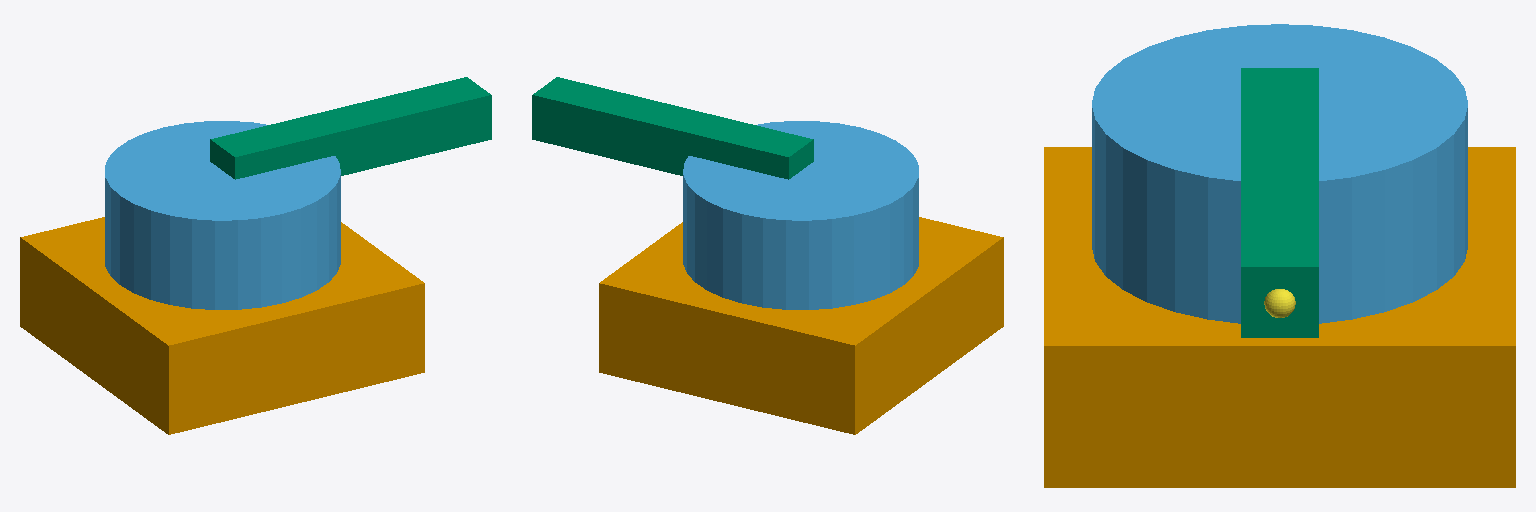
URDF robot description (turret):
<?xml version="1.0"?>
<robot name="turret">

  <!-- Base -->
  <link name="base_link">
    <inertial>
      <origin xyz="0 0 0" rpy="0 0 0"/>
      <mass value="5.0"/>
      <inertia ixx="0.05" ixy="0.0" ixz="0.0" iyy="0.05" iyz="0.0" izz="0.05"/>
    </inertial>
    <visual>
      <origin xyz="0.0 0.0 0.015" rpy="0 0 0"/>
      <geometry>
        <box size="0.09 0.09 0.03"/>
      </geometry>
    </visual>
    <collision>
      <origin xyz="0.0 0.0 0.015" rpy="0 0 0"/>
      <geometry>
        <box size="0.09 0.09 0.03"/>
      </geometry>
    </collision>
  </link>

  <!-- Yaw link -->
  <link name="yaw_link">
    <inertial>
      <origin xyz="0.0 0.0 0.015" rpy="0 0 0"/>
      <mass value="2.0"/>
      <inertia ixx="0.02" ixy="0.0" ixz="0.0" iyy="0.02" iyz="0.0" izz="0.02"/>
    </inertial>
    <visual>
      <origin xyz="0.0 0.0 0.015" rpy="0 0 0"/>
      <geometry>
        <cylinder radius="0.036" length="0.03"/>
      </geometry>
    </visual>
    <collision>
      <origin xyz="0.0 0.0 0.015" rpy="0 0 0"/>
      <geometry>
        <cylinder radius="0.036" length="0.03"/>
      </geometry>
    </collision>
  </link>

  <!-- Pitch link -->
  <link name="pitch_link">
    <inertial>
      <origin xyz="0.045 0.0 0.0" rpy="0 0 0"/>
      <mass value="1.0"/>
      <inertia ixx="0.01" ixy="0.0" ixz="0.0" iyy="0.01" iyz="0.0" izz="0.01"/>
    </inertial>
    <visual>
      <!-- a simple barrel -->
      <origin xyz="0.045 0.0 0.0" rpy="0 0 0"/>
      <geometry>
        <box size="0.09 0.015 0.015"/>
      </geometry>
    </visual>
    <collision>
      <origin xyz="0.045 0.0 0.0" rpy="0 0 0"/>
      <geometry>
        <box size="0.09 0.015 0.015"/>
      </geometry>
    </collision>
  </link>

  <!-- gun tip frame -->
  <link name="gun_tip">
    <inertial>
      <origin xyz="0 0 0" rpy="0 0 0"/>
      <mass value="0.01"/>
      <inertia ixx="1e-6" ixy="0.0" ixz="0.0" iyy="1e-6" iyz="0.0" izz="1e-6"/>
    </inertial>
    <visual>
      <origin xyz="0 0 0" rpy="0 0 0"/>
      <geometry>
        <sphere radius="0.003"/>
      </geometry>
    </visual>
    <collision>
      <origin xyz="0 0 0" rpy="0 0 0"/>
      <geometry>
        <sphere radius="0.003"/>
      </geometry>
    </collision>
  </link>

  <!-- yaw joint: base -> yaw_link (rotate around Z) -->
  <joint name="yaw_joint" type="revolute">
    <parent link="base_link"/>
    <child link="yaw_link"/>
    <!-- Place yaw joint on top of base -->
    <origin xyz="0.0 0.0 0.03" rpy="0 0 0"/>
    <axis xyz="0 0 1"/>
    <limit lower="-3.14159" upper="3.14159" effort="50" velocity="3.0"/>
    <dynamics damping="0.2" friction="0.0"/>
  </joint>

  <!-- pitch joint: yaw_link -> pitch_link (rotate around Y) -->
  <joint name="pitch_joint" type="revolute">
    <parent link="yaw_link"/>
    <child link="pitch_link"/>
    <!-- Place pitch joint slightly forward and above -->
    <origin xyz="0.0 0.0 0.03" rpy="0 0 0"/>
    <axis xyz="0 1 0"/>
    <!-- +/- 60 degrees -->
    <limit lower="-1.0472" upper="1.0472" effort="30" velocity="3.0"/>
    <dynamics damping="0.2" friction="0.0"/>
  </joint>

  <!-- fixed joint to define gun tip at barrel end -->
  <joint name="gun_tip_joint" type="fixed">
    <parent link="pitch_link"/>
    <child link="gun_tip"/>
    <origin xyz="0.09 0.0 0.0" rpy="0 0 0"/>
  </joint>

</robot>

--- Render facts (derived) ---
3 views of the same robot in one strip: view 1: azimuth 30°, elevation 25°; view 2: azimuth 150°, elevation 25°; view 3: azimuth 270°, elevation 25° (orthographic).
Model turret with 4 links and 3 joints (2 revolute, 1 fixed), rooted at base_link, posed every joint at zero.
Visible links, largest first — view 1: base_link, yaw_link, pitch_link; view 2: base_link, yaw_link, pitch_link; view 3: base_link, yaw_link, pitch_link, gun_tip.
Boxes of the visible links, x1,y1,x2,y2 form: base_link: (20, 217, 424, 434); yaw_link: (105, 121, 340, 309); pitch_link: (210, 77, 491, 179); base_link: (599, 217, 1003, 434); yaw_link: (683, 121, 918, 309); pitch_link: (532, 77, 813, 179); base_link: (1044, 147, 1515, 487); yaw_link: (1092, 24, 1467, 323); pitch_link: (1241, 68, 1318, 337); gun_tip: (1264, 289, 1295, 317).
Bounding box of the posed robot: 0.138 × 0.09 × 0.0675 m (x, y, z).
Geometry: primitives only (box / cylinder / sphere), no mesh files.
